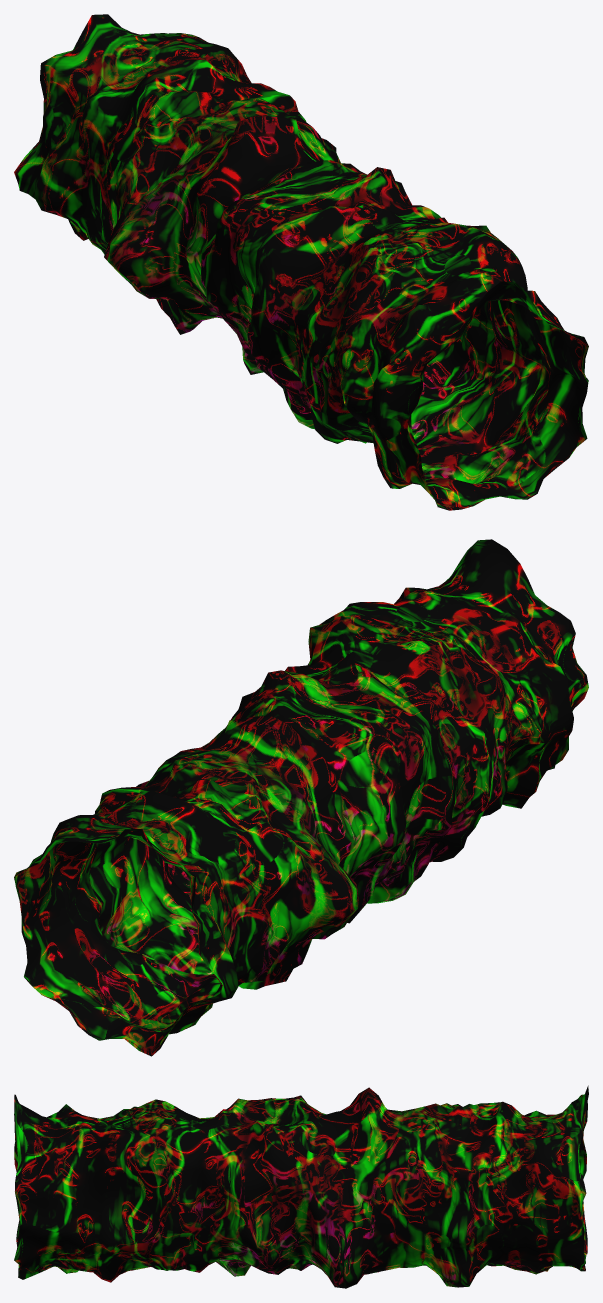
File: waterfall_roller_high_SM.fbx
The picture shows the model from 3 angles, top to bottom: view 1: azimuth 30°, elevation 25°; view 2: azimuth 150°, elevation 25°; view 3: azimuth 270°, elevation 25°; orthographic projection. The views are drawn at different scales.
Visible parts, largest first — view 1: waterfall_roller_high_SM_LOD0; view 2: waterfall_roller_high_SM_LOD0; view 3: waterfall_roller_high_SM_LOD0.
Boxes of the visible parts, x1,y1,x2,y2 form: waterfall_roller_high_SM_LOD0: [14, 14, 588, 510]; waterfall_roller_high_SM_LOD0: [14, 539, 588, 1056]; waterfall_roller_high_SM_LOD0: [14, 1085, 588, 1288].
Size of the model in its own units: 275 by 739 by 266.
Materials: 1 (1 with a texture image).
